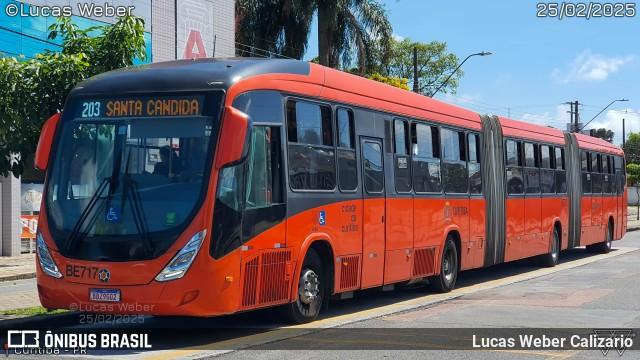SANTA CANDIDA: (102, 95, 205, 120)
